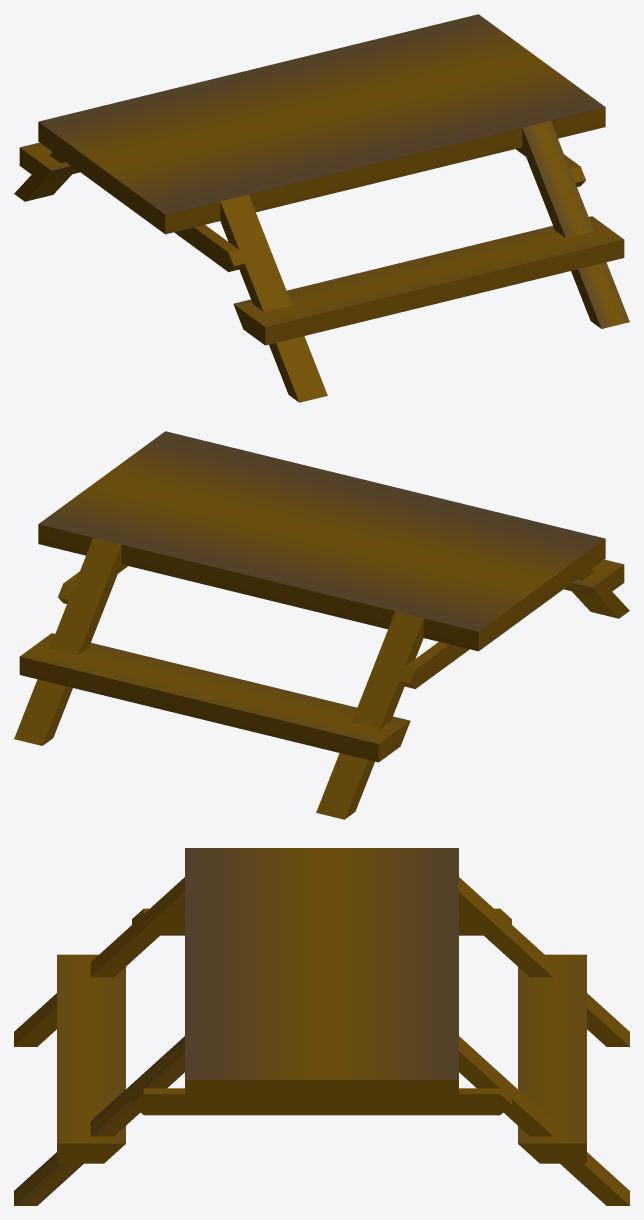
Rendered from Bench.fbx.
3 renders of one model, top to bottom at view 1: azimuth 30°, elevation 25°; view 2: azimuth 150°, elevation 25°; view 3: azimuth 270°, elevation 25°, orthographic. The views are drawn at different scales.
Parts seen in each view (by area): view 1: Bench; view 2: Bench; view 3: Bench.
Boxes of the visible parts, <box> form: Bench: <box>14,14,629,402</box>; Bench: <box>14,431,629,819</box>; Bench: <box>14,848,629,1205</box>.
Size of the model in its own units: 200 by 62.29 by 225.
